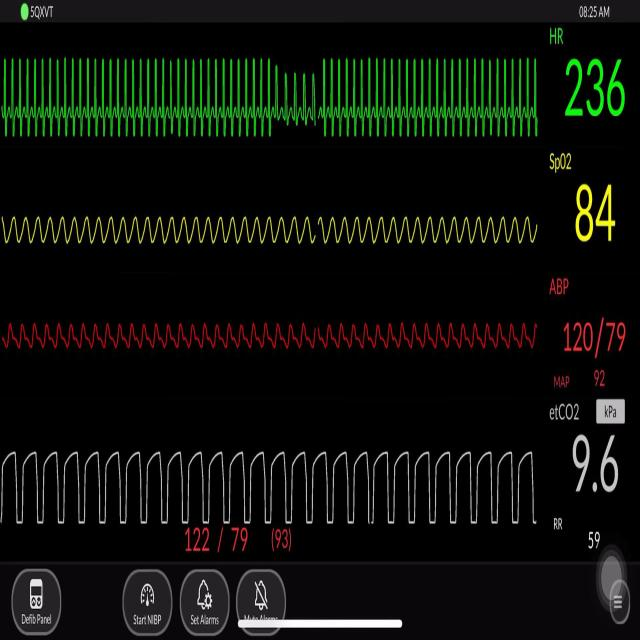danger: (5, 39, 285, 148), (315, 43, 545, 155), (286, 50, 312, 134)
